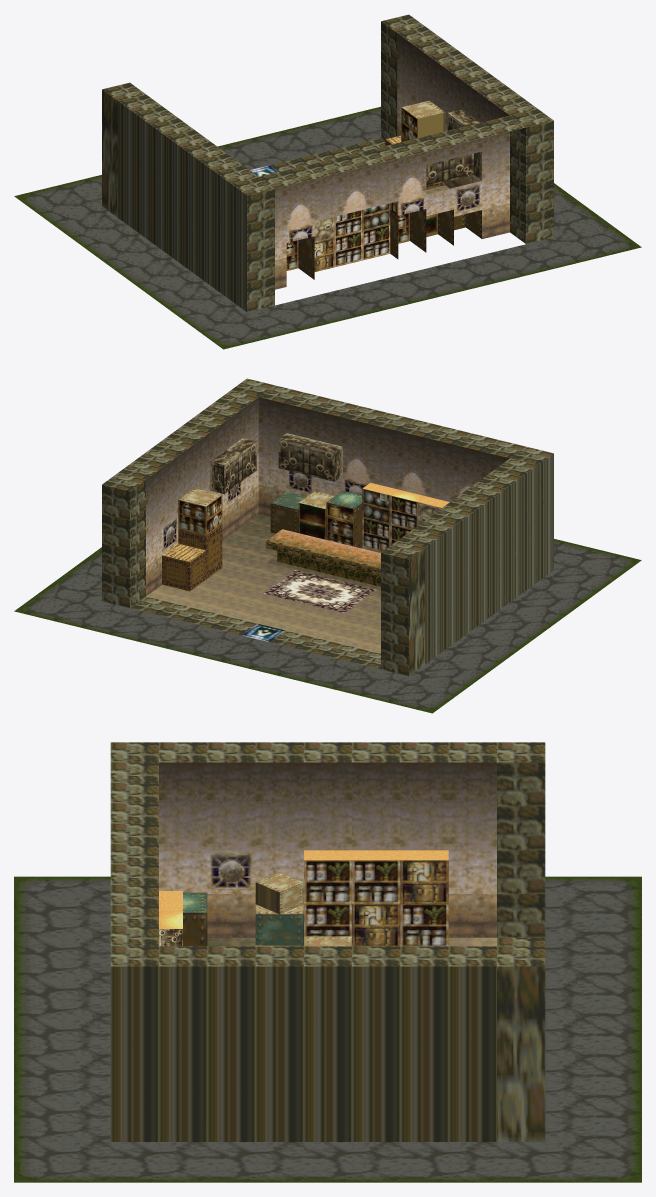
The model's file is catalog.obj.
3 views of the same model, one above another, from view 1: azimuth 30°, elevation 25°; view 2: azimuth 150°, elevation 25°; view 3: azimuth 270°, elevation 25° (orthographic). The views are drawn at different scales.
Visible parts, largest first — view 1: cell_9_9, cell_17_9, cell_12_9, cell_13_9, cell_14_9, cell_16_9, cell_10_9, cell_18_9, cell_18_15, cell_18_10, cell_18_11, cell_18_12 (+12 smaller); view 2: cell_18_16, cell_9_9, cell_12_9, cell_11_9, cell_8_16, cell_9_13, cell_13_9, cell_10_9, cell_9_14, cell_14_9, cell_9_10, cell_18_15 (+17 smaller); view 3: cell_8_8, cell_8_9, cell_8_10, cell_8_11, cell_8_13, cell_8_14, cell_8_15, cell_8_16, cell_8_12, cell_17_10, cell_17_14, cell_17_13 (+102 smaller).
Boxes of the visible parts, left/top/right/bottom form: cell_9_9: left=482, top=104, right=553, bottom=243; cell_17_9: left=247, top=186, right=286, bottom=312; cell_12_9: left=390, top=152, right=426, bottom=258; cell_13_9: left=362, top=158, right=398, bottom=260; cell_14_9: left=334, top=165, right=370, bottom=267; cell_16_9: left=286, top=179, right=314, bottom=279; cell_10_9: left=446, top=138, right=481, bottom=238; cell_18_9: left=214, top=165, right=258, bottom=300; cell_18_15: left=118, top=94, right=161, bottom=229; cell_18_10: left=198, top=153, right=241, bottom=288; cell_18_11: left=182, top=141, right=225, bottom=276; cell_18_12: left=166, top=129, right=209, bottom=264; cell_18_16: left=381, top=541, right=424, bottom=676; cell_9_9: left=242, top=397, right=286, bottom=532; cell_12_9: left=326, top=417, right=370, bottom=547; cell_11_9: left=298, top=411, right=342, bottom=539; cell_8_16: left=102, top=473, right=145, bottom=607; cell_9_13: left=178, top=444, right=222, bottom=579; cell_13_9: left=361, top=424, right=398, bottom=552; cell_10_9: left=270, top=404, right=314, bottom=533; cell_9_14: left=162, top=456, right=206, bottom=591; cell_14_9: left=390, top=431, right=426, bottom=545; cell_9_10: left=226, top=409, right=270, bottom=544; cell_18_15: left=397, top=529, right=441, bottom=664; cell_8_8: left=110, top=946, right=158, bottom=1141; cell_8_9: left=159, top=946, right=207, bottom=1141; cell_8_10: left=207, top=946, right=255, bottom=1141; cell_8_11: left=255, top=946, right=303, bottom=1141; cell_8_13: left=352, top=946, right=400, bottom=1141; cell_8_14: left=400, top=946, right=448, bottom=1141; cell_8_15: left=448, top=946, right=496, bottom=1141; cell_8_16: left=497, top=946, right=545, bottom=1141; cell_8_12: left=304, top=946, right=351, bottom=1141; cell_17_10: left=207, top=762, right=255, bottom=946; cell_17_14: left=400, top=762, right=448, bottom=946; cell_17_13: left=352, top=762, right=400, bottom=946.
Size of the model in its own units: 0.2344 by 0.0625 by 0.2031.
Materials: 37 (37 with a texture image).
